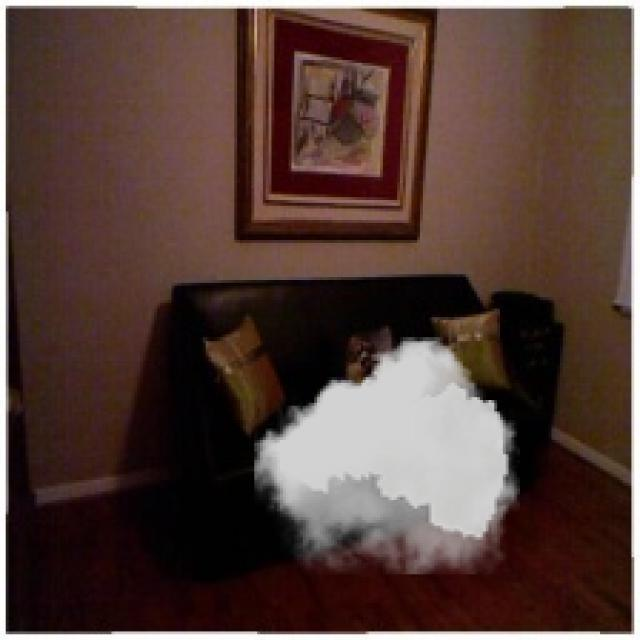Smoke: (255, 337, 520, 574)
